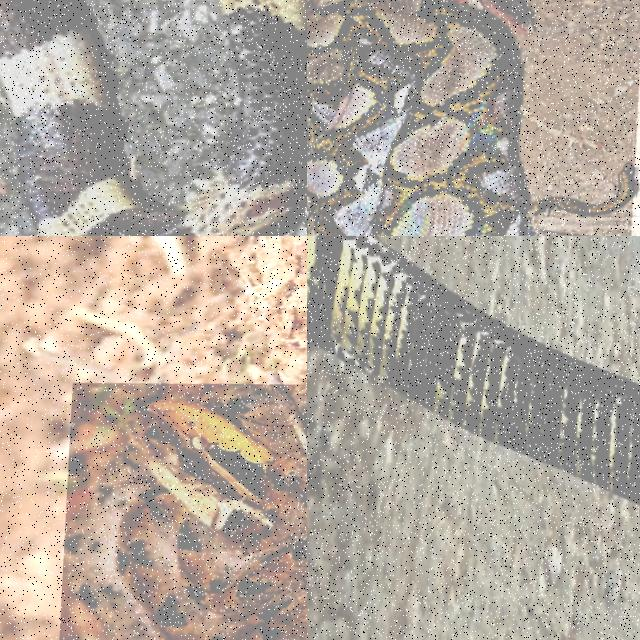Bungarus candidus: (0, 0, 306, 235)
Calloselasma rhodostoma: (65, 387, 306, 639)
Malayopython reticulatus: (307, 0, 538, 235)
Ophiophagus hannah: (307, 236, 639, 504)
